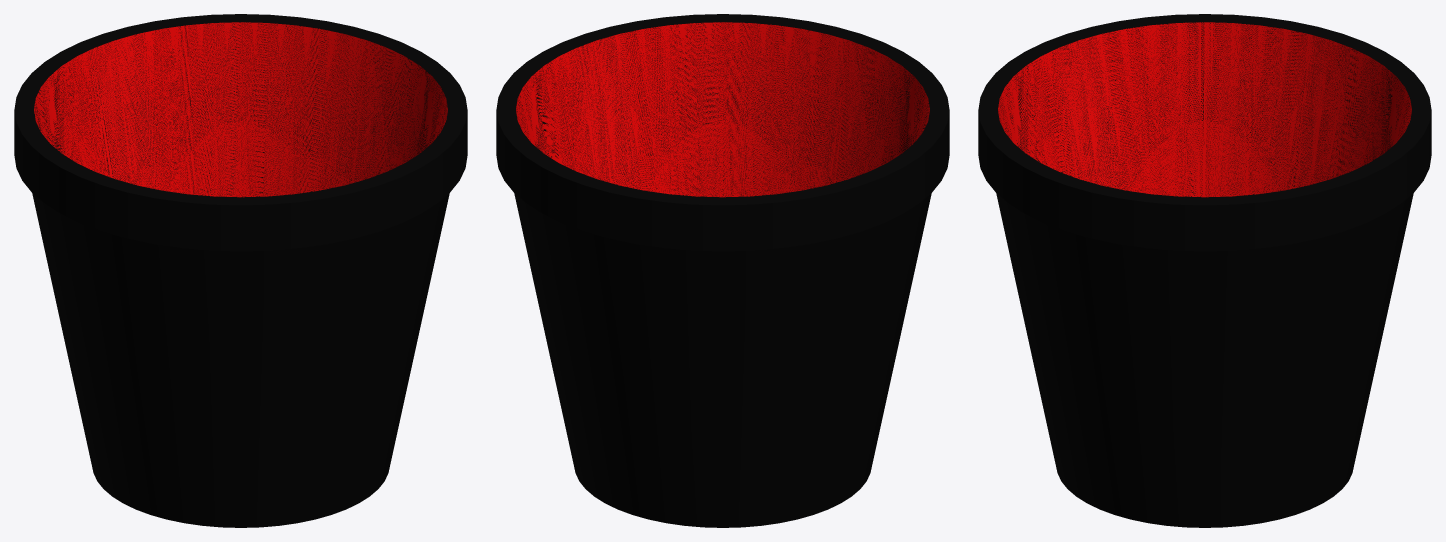
Rendered from pot_02_origin_gt_4.dae.
3 views of the same model, side by side, from view 1: azimuth 30°, elevation 25°; view 2: azimuth 150°, elevation 25°; view 3: azimuth 270°, elevation 25° (orthographic).
Visible parts, largest first — view 1: Pot (×2); view 2: Pot (×2); view 3: Pot (×2).
Part boxes in pixels (left/top/right/bottom): Pot (×2): left=14, top=14, right=467, bottom=527; Pot (×2): left=496, top=14, right=949, bottom=527; Pot (×2): left=978, top=14, right=1431, bottom=527.
Bounding box in the file's own units: 3.94 × 3.94 × 3.41.
